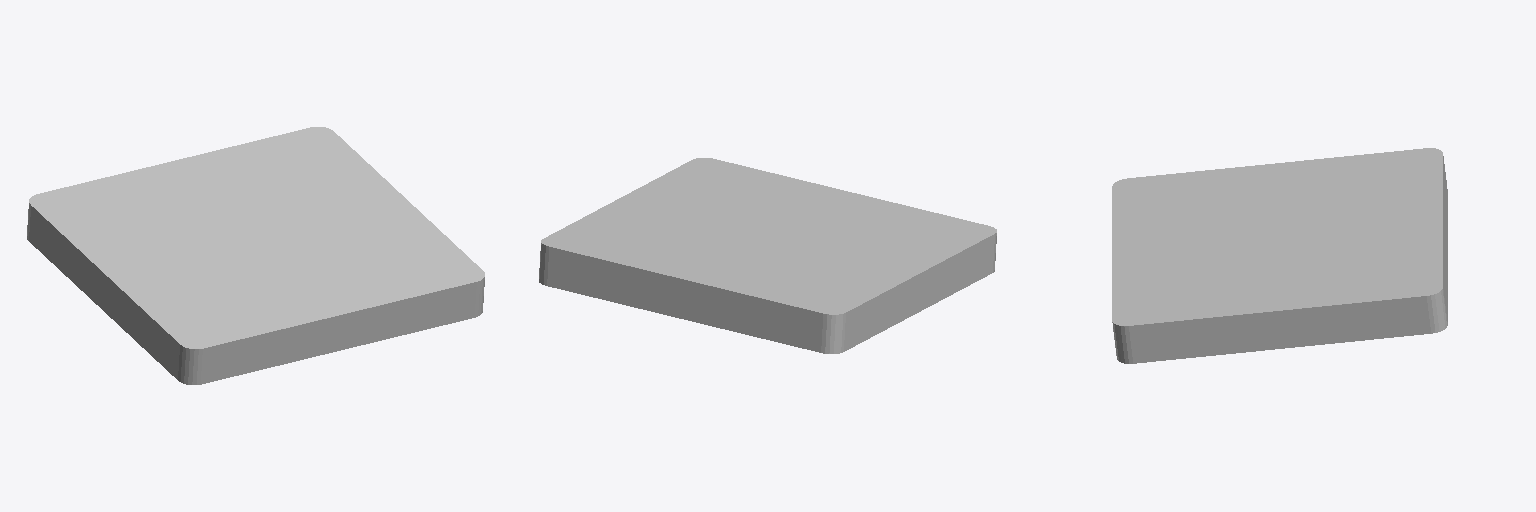
File: original-53.obj
The picture shows the model from 3 angles: view 1: azimuth 30°, elevation 25°; view 2: azimuth 150°, elevation 25°; view 3: azimuth 270°, elevation 25°; orthographic projection.
Visible parts, largest first — view 1: mesh52/mesh52-geometry#mesh52-geometry; view 2: mesh52/mesh52-geometry#mesh52-geometry; view 3: mesh52/mesh52-geometry#mesh52-geometry.
Boxes of the visible parts, box(x1,y1,x2,y2) form: mesh52/mesh52-geometry#mesh52-geometry: box(27, 127, 484, 384); mesh52/mesh52-geometry#mesh52-geometry: box(539, 158, 996, 353); mesh52/mesh52-geometry#mesh52-geometry: box(1112, 148, 1447, 363).
Bounding box in the file's own units: 0.1061 × 0.0238 × 0.1019.